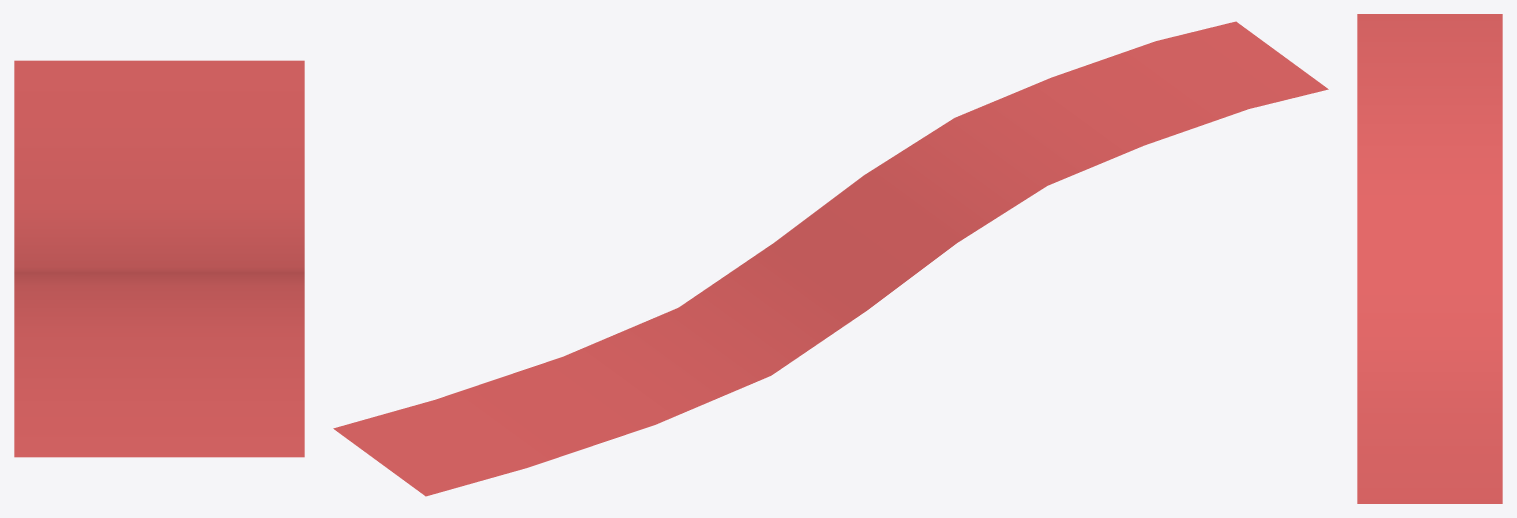
File: Ramp1Color.fbx
3 views of the same model, side by side, from view 1: azimuth 90°, elevation 25°; view 2: azimuth 210°, elevation 25°; view 3: azimuth 270°, elevation 25° (orthographic). The views are drawn at different scales.
Parts seen in each view (by area): view 1: pCube636; view 2: pCube636; view 3: pCube636.
Boxes of the visible parts, box(x1,y1,x2,y2) form: pCube636: box(14, 60, 304, 457); pCube636: box(333, 21, 1328, 496); pCube636: box(1357, 14, 1502, 503).
Size of the model in its own units: 5 by 0.9879 by 0.8908.
